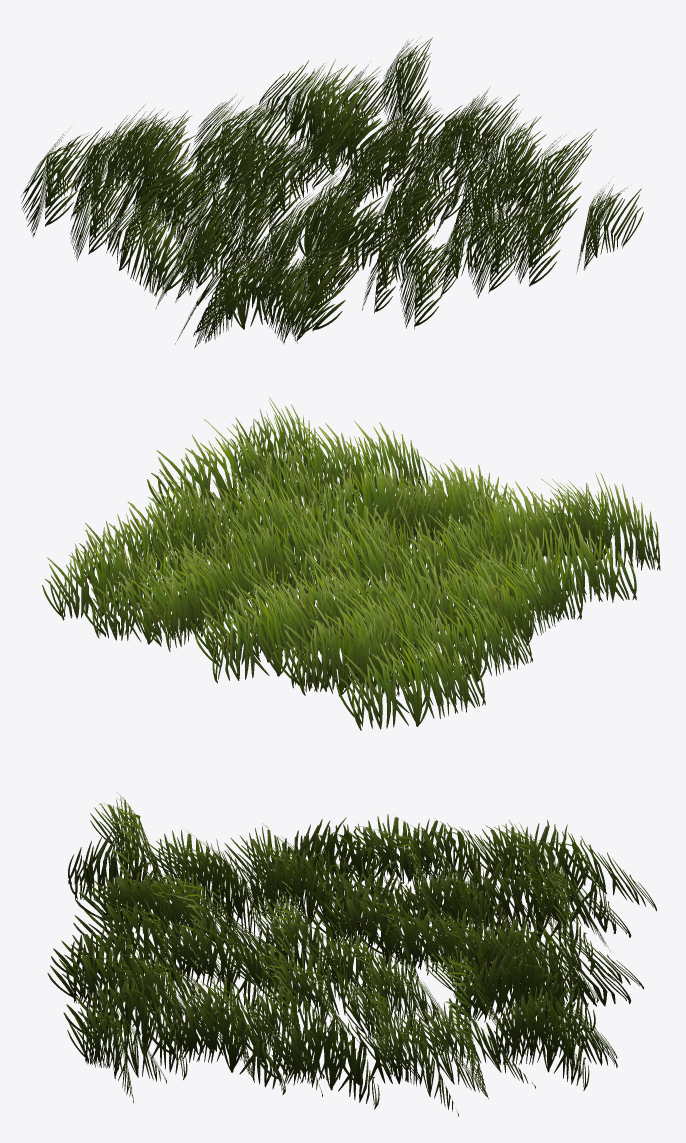
Rendered from grassKit_diagonal.fbx.
The picture shows the model from 3 angles, top to bottom: view 1: azimuth 30°, elevation 25°; view 2: azimuth 150°, elevation 25°; view 3: azimuth 270°, elevation 25°; orthographic projection. The views are drawn at different scales.
Parts seen in each view (by area): view 1: grassKit_diagonal; view 2: grassKit_diagonal; view 3: grassKit_diagonal.
Boxes of the visible parts, bbox=[...] form: grassKit_diagonal: bbox=[20, 36, 643, 348]; grassKit_diagonal: bbox=[42, 397, 660, 730]; grassKit_diagonal: bbox=[47, 792, 656, 1116].
Bounding box in the file's own units: 5.19 × 1.2 × 5.07.
